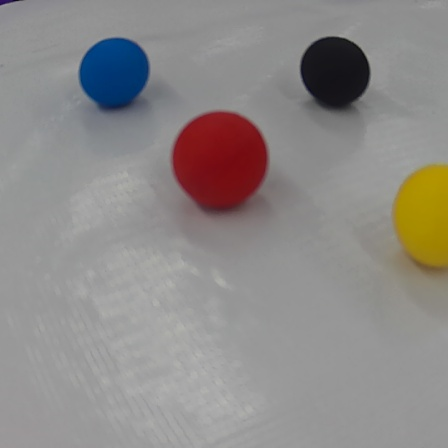black: (296, 33, 372, 113)
blue: (81, 33, 152, 110)
red: (168, 110, 274, 217)
yellow: (392, 165, 448, 275)
